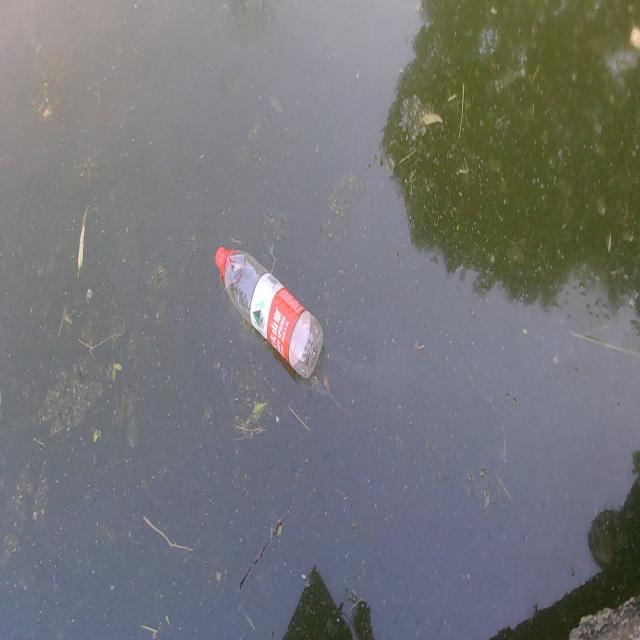garbage: (214, 244, 324, 380)
